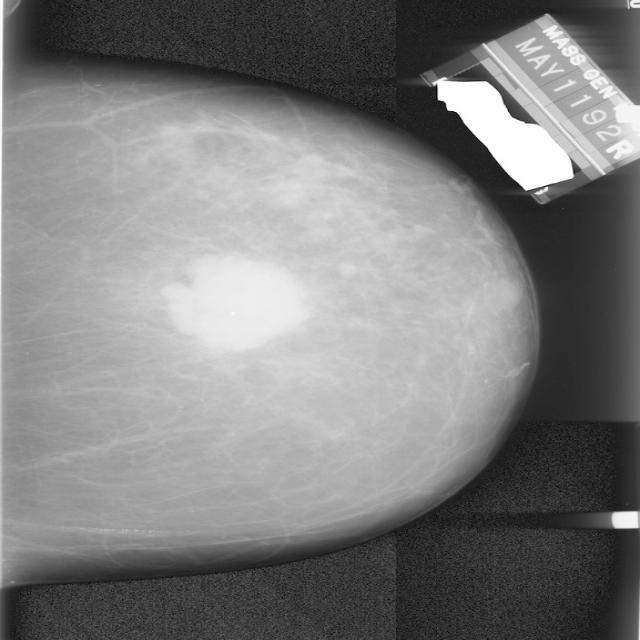tumour: (160, 252, 312, 352)
